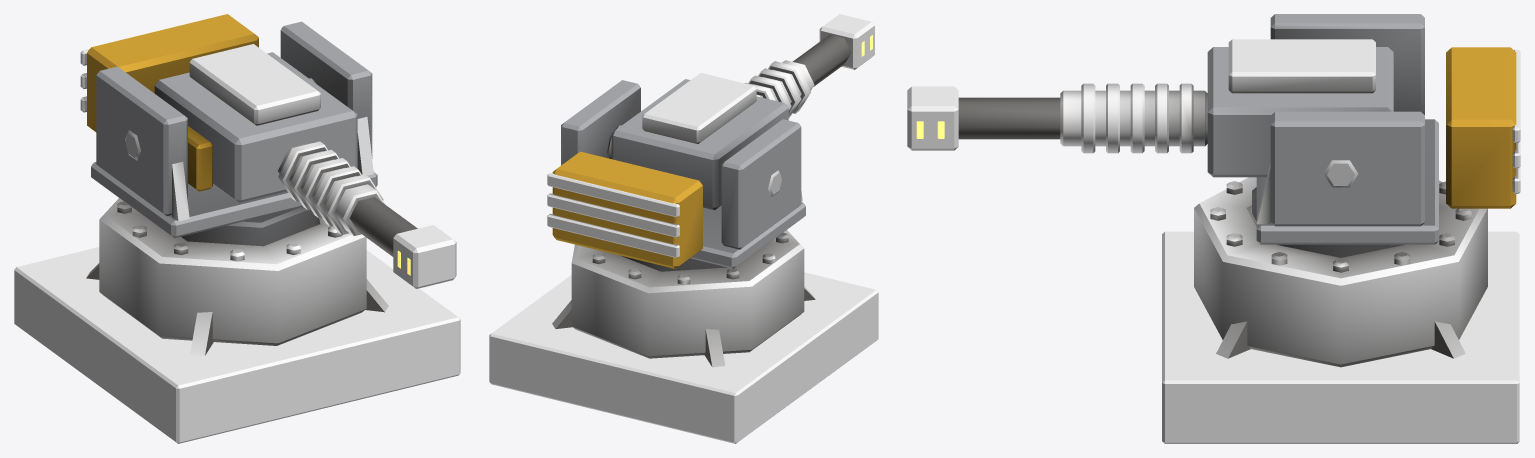
File: R4W_Basic_LOD1.fbx
The picture shows the model from 3 angles, left to right: view 1: azimuth 30°, elevation 25°; view 2: azimuth 150°, elevation 25°; view 3: azimuth 270°, elevation 25°; orthographic projection. The views are drawn at different scales.
Parts seen in each view (by area): view 1: R4W_Basic_LOD1; view 2: R4W_Basic_LOD1; view 3: R4W_Basic_LOD1.
Boxes of the visible parts, x1,y1,x2,y2 form: R4W_Basic_LOD1: (14,14,460,443); R4W_Basic_LOD1: (489,14,878,443); R4W_Basic_LOD1: (907,14,1520,443).
Bounding box in the file's own units: 0.51 × 0.494 × 0.874.
